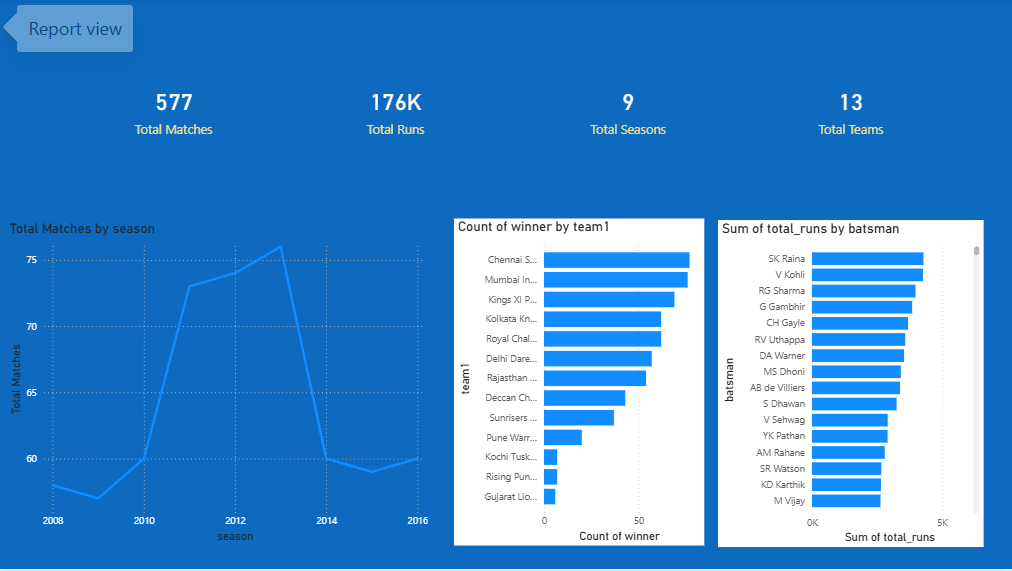

What the dashboard file says about the page in this screenshot:
{"tool":"powerbi","page":{"name":"Analytics Overview","canvas":[1280,720],"ordinal":0},"visuals":[{"type":"card","fields":{"Values":["matches.Total Matches"]},"box":[81.3,0,279.7,279.7],"z":0},{"type":"card","fields":{"Values":["matches.Total Runs"]},"box":[360.9,0,279.7,279.7],"z":1000},{"type":"card","fields":{"Values":["matches.Total Seasons"]},"box":[653.9,0,279.7,279.7],"z":2000},{"type":"card","fields":{"Values":["matches.Total Teams"]},"box":[933.6,0,281.6,279.7],"z":3000},{"type":"lineChart","fields":{"Category":["matches.season"],"Y":["matches.Total Matches"]},"box":[9.4,279.7,536.7,410.1],"z":4000},{"type":"clusteredBarChart","fields":{"Category":["matches.team1"],"Y":["CountNonNull(matches.winner)"]},"box":[574.5,277.8,315.6,412],"z":5000},{"type":"clusteredBarChart","fields":{"Category":["deliveries.batsman"],"Y":["Sum(deliveries.total_runs)"]},"box":[907.1,279.7,334.5,412],"z":6000}]}

Visuals, with their boxes on the page's 1280x720 design canvas (x1, y1, x2, y2). These are canvas units, not pixel positions in the 1012x571 screenshot, which may show the page scaled, cropped or inside an application window:
card - matches.Total Matches: (left=81, top=0, right=361, bottom=280)
card - matches.Total Runs: (left=361, top=0, right=641, bottom=280)
card - matches.Total Seasons: (left=654, top=0, right=934, bottom=280)
card - matches.Total Teams: (left=934, top=0, right=1215, bottom=280)
lineChart - matches.season x matches.Total Matches: (left=9, top=280, right=546, bottom=690)
clusteredBarChart - matches.team1 x CountNonNull(matches.winner): (left=574, top=278, right=890, bottom=690)
clusteredBarChart - deliveries.batsman x Sum(deliveries.total_runs): (left=907, top=280, right=1242, bottom=692)
